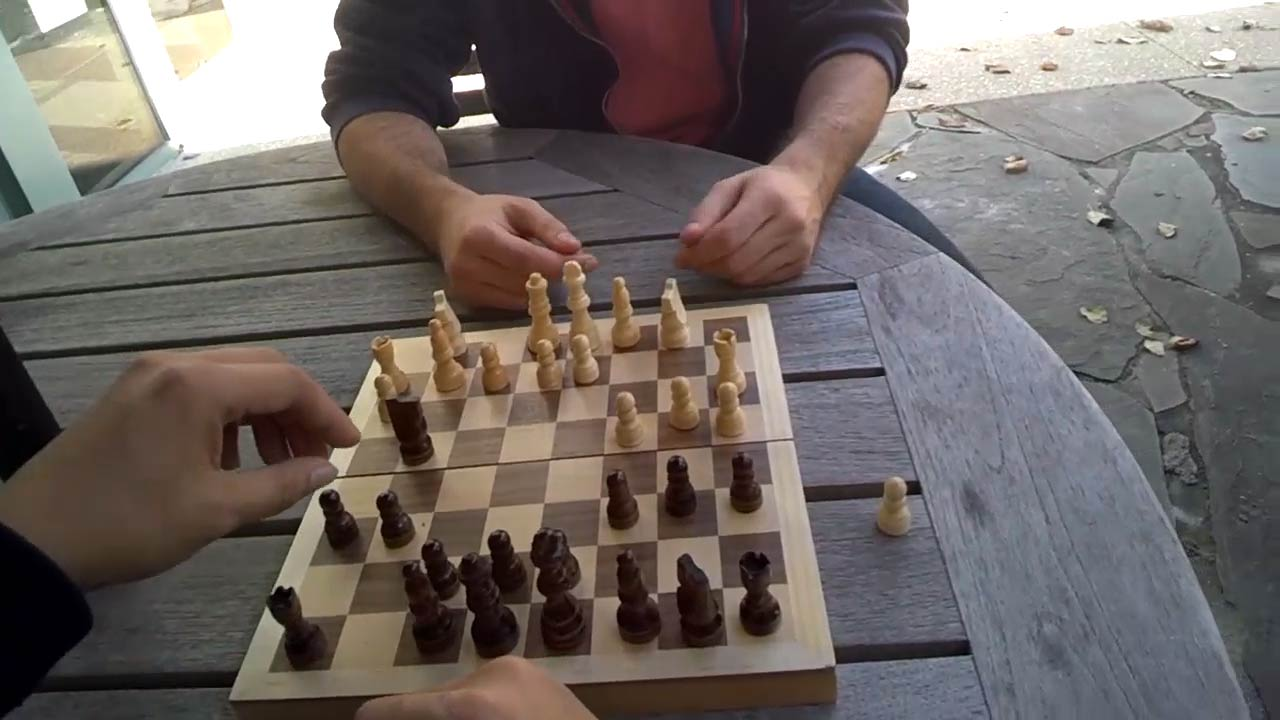hand: (1, 350, 353, 581), (436, 195, 595, 311), (678, 163, 830, 282), (355, 661, 593, 717)
